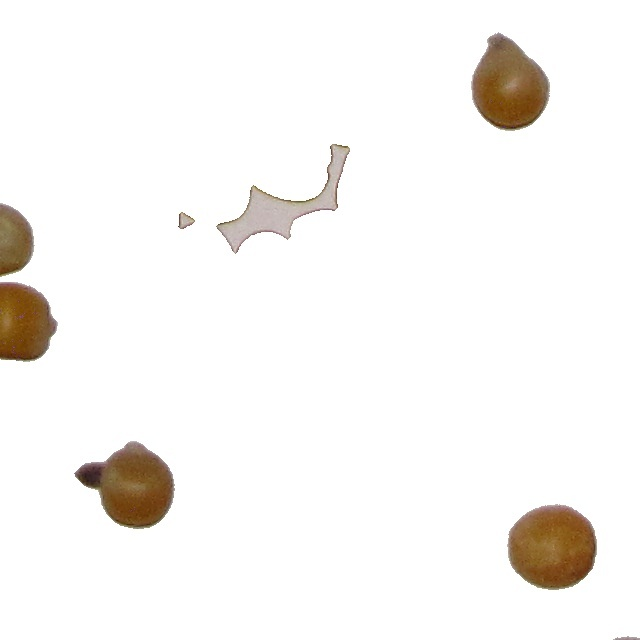mais: (470, 31, 551, 132), (506, 503, 598, 591), (98, 439, 179, 533), (604, 635, 640, 640)
other: (215, 146, 351, 258), (177, 211, 196, 229)
